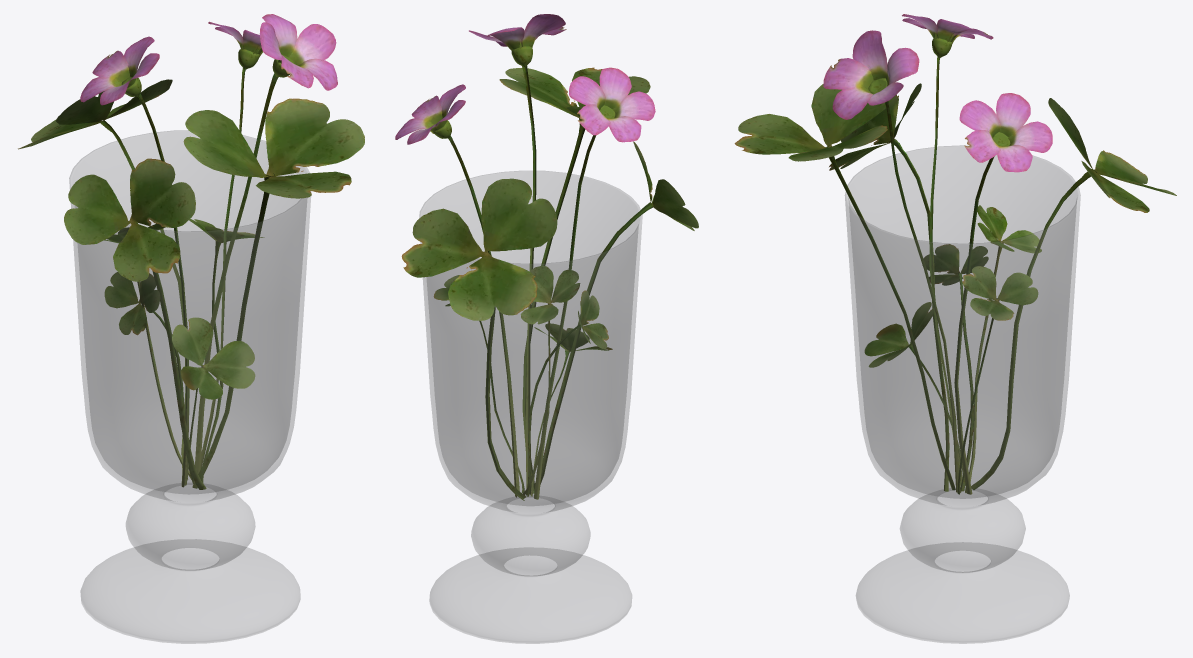
File: vaso-flores.glb
The picture shows the model from 3 angles, left to right: view 1: azimuth 30°, elevation 25°; view 2: azimuth 150°, elevation 25°; view 3: azimuth 270°, elevation 25°; orthographic projection. The views are drawn at different scales.
Visible parts, largest first — view 1: GlassAlpha, Flowers1; view 2: GlassAlpha, Flowers1; view 3: GlassAlpha, Flowers1.
Part boxes in pixels (x1,y1,x2,y2): GlassAlpha: (69, 130, 311, 643); Flowers1: (18, 14, 364, 489); GlassAlpha: (419, 171, 642, 643); Flowers1: (395, 14, 698, 500); GlassAlpha: (845, 145, 1080, 643); Flowers1: (734, 14, 1176, 494).
Size of the model in its own units: 0.0973 by 0.2032 by 0.1425.
2 materials, 1 textured.
